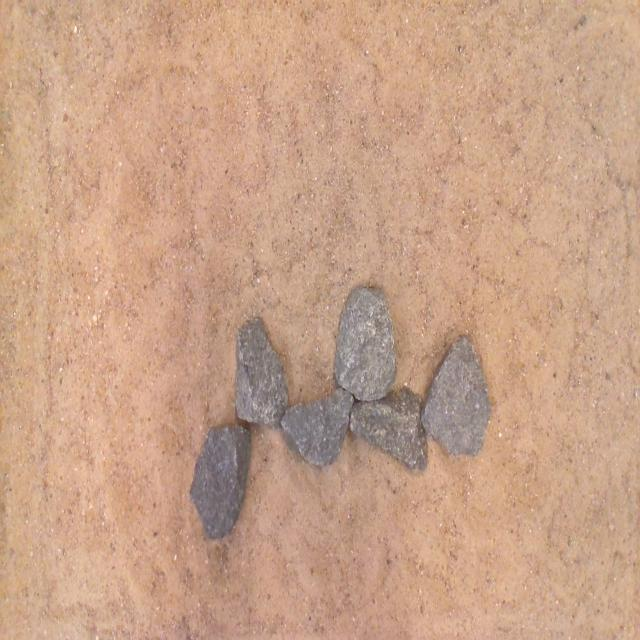rock: (421, 335, 490, 455), (334, 287, 396, 401), (190, 425, 250, 537), (349, 388, 427, 472), (236, 318, 288, 427), (281, 388, 353, 466)
